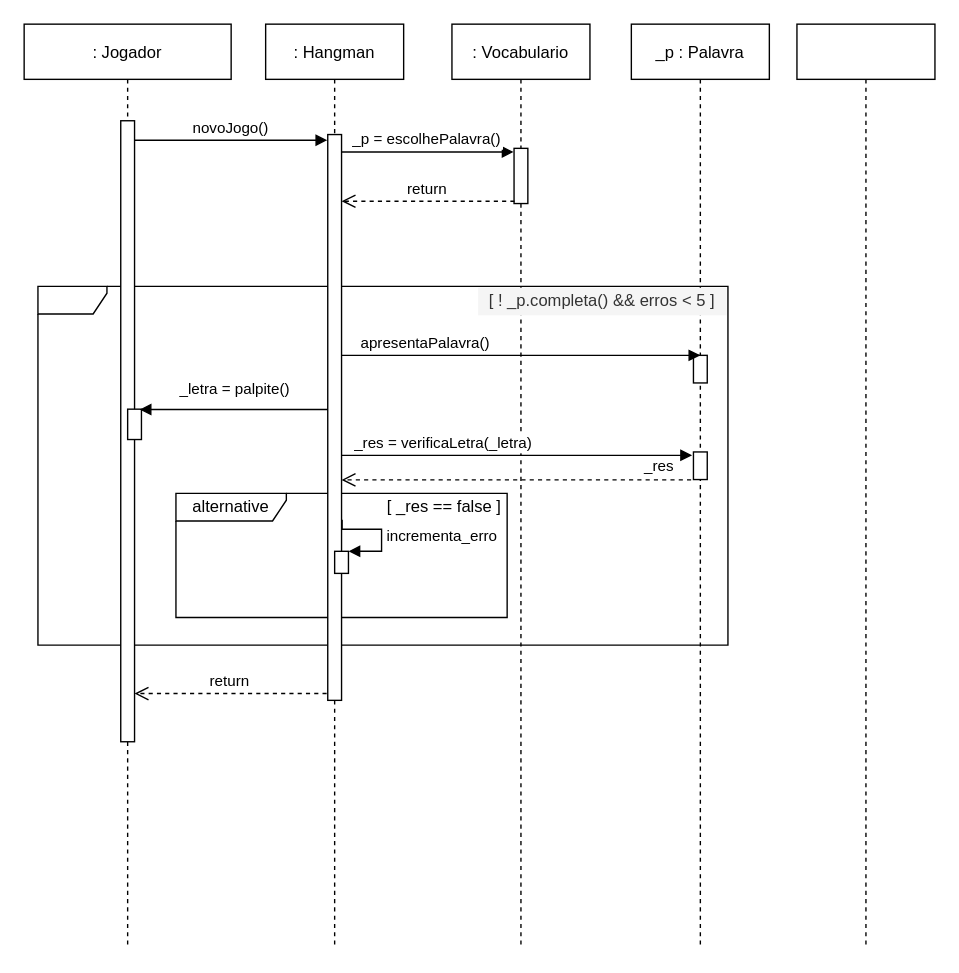
Image size: 959x973. Some labels were removed from this diagram. The shapes that lost their labels are listed below. From the top down, each one's box as (x1, y1, x2, y2) in pixels, then its label:
(37, 285, 728, 645): loop
(796, 23, 935, 949): _letra : Letra
